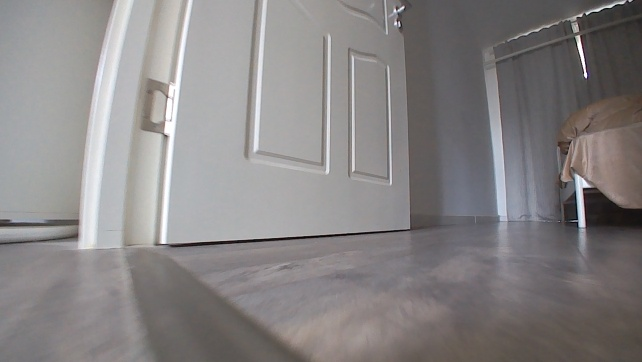bed1: (552, 90, 641, 230)
door_anno: (71, 0, 416, 254)
